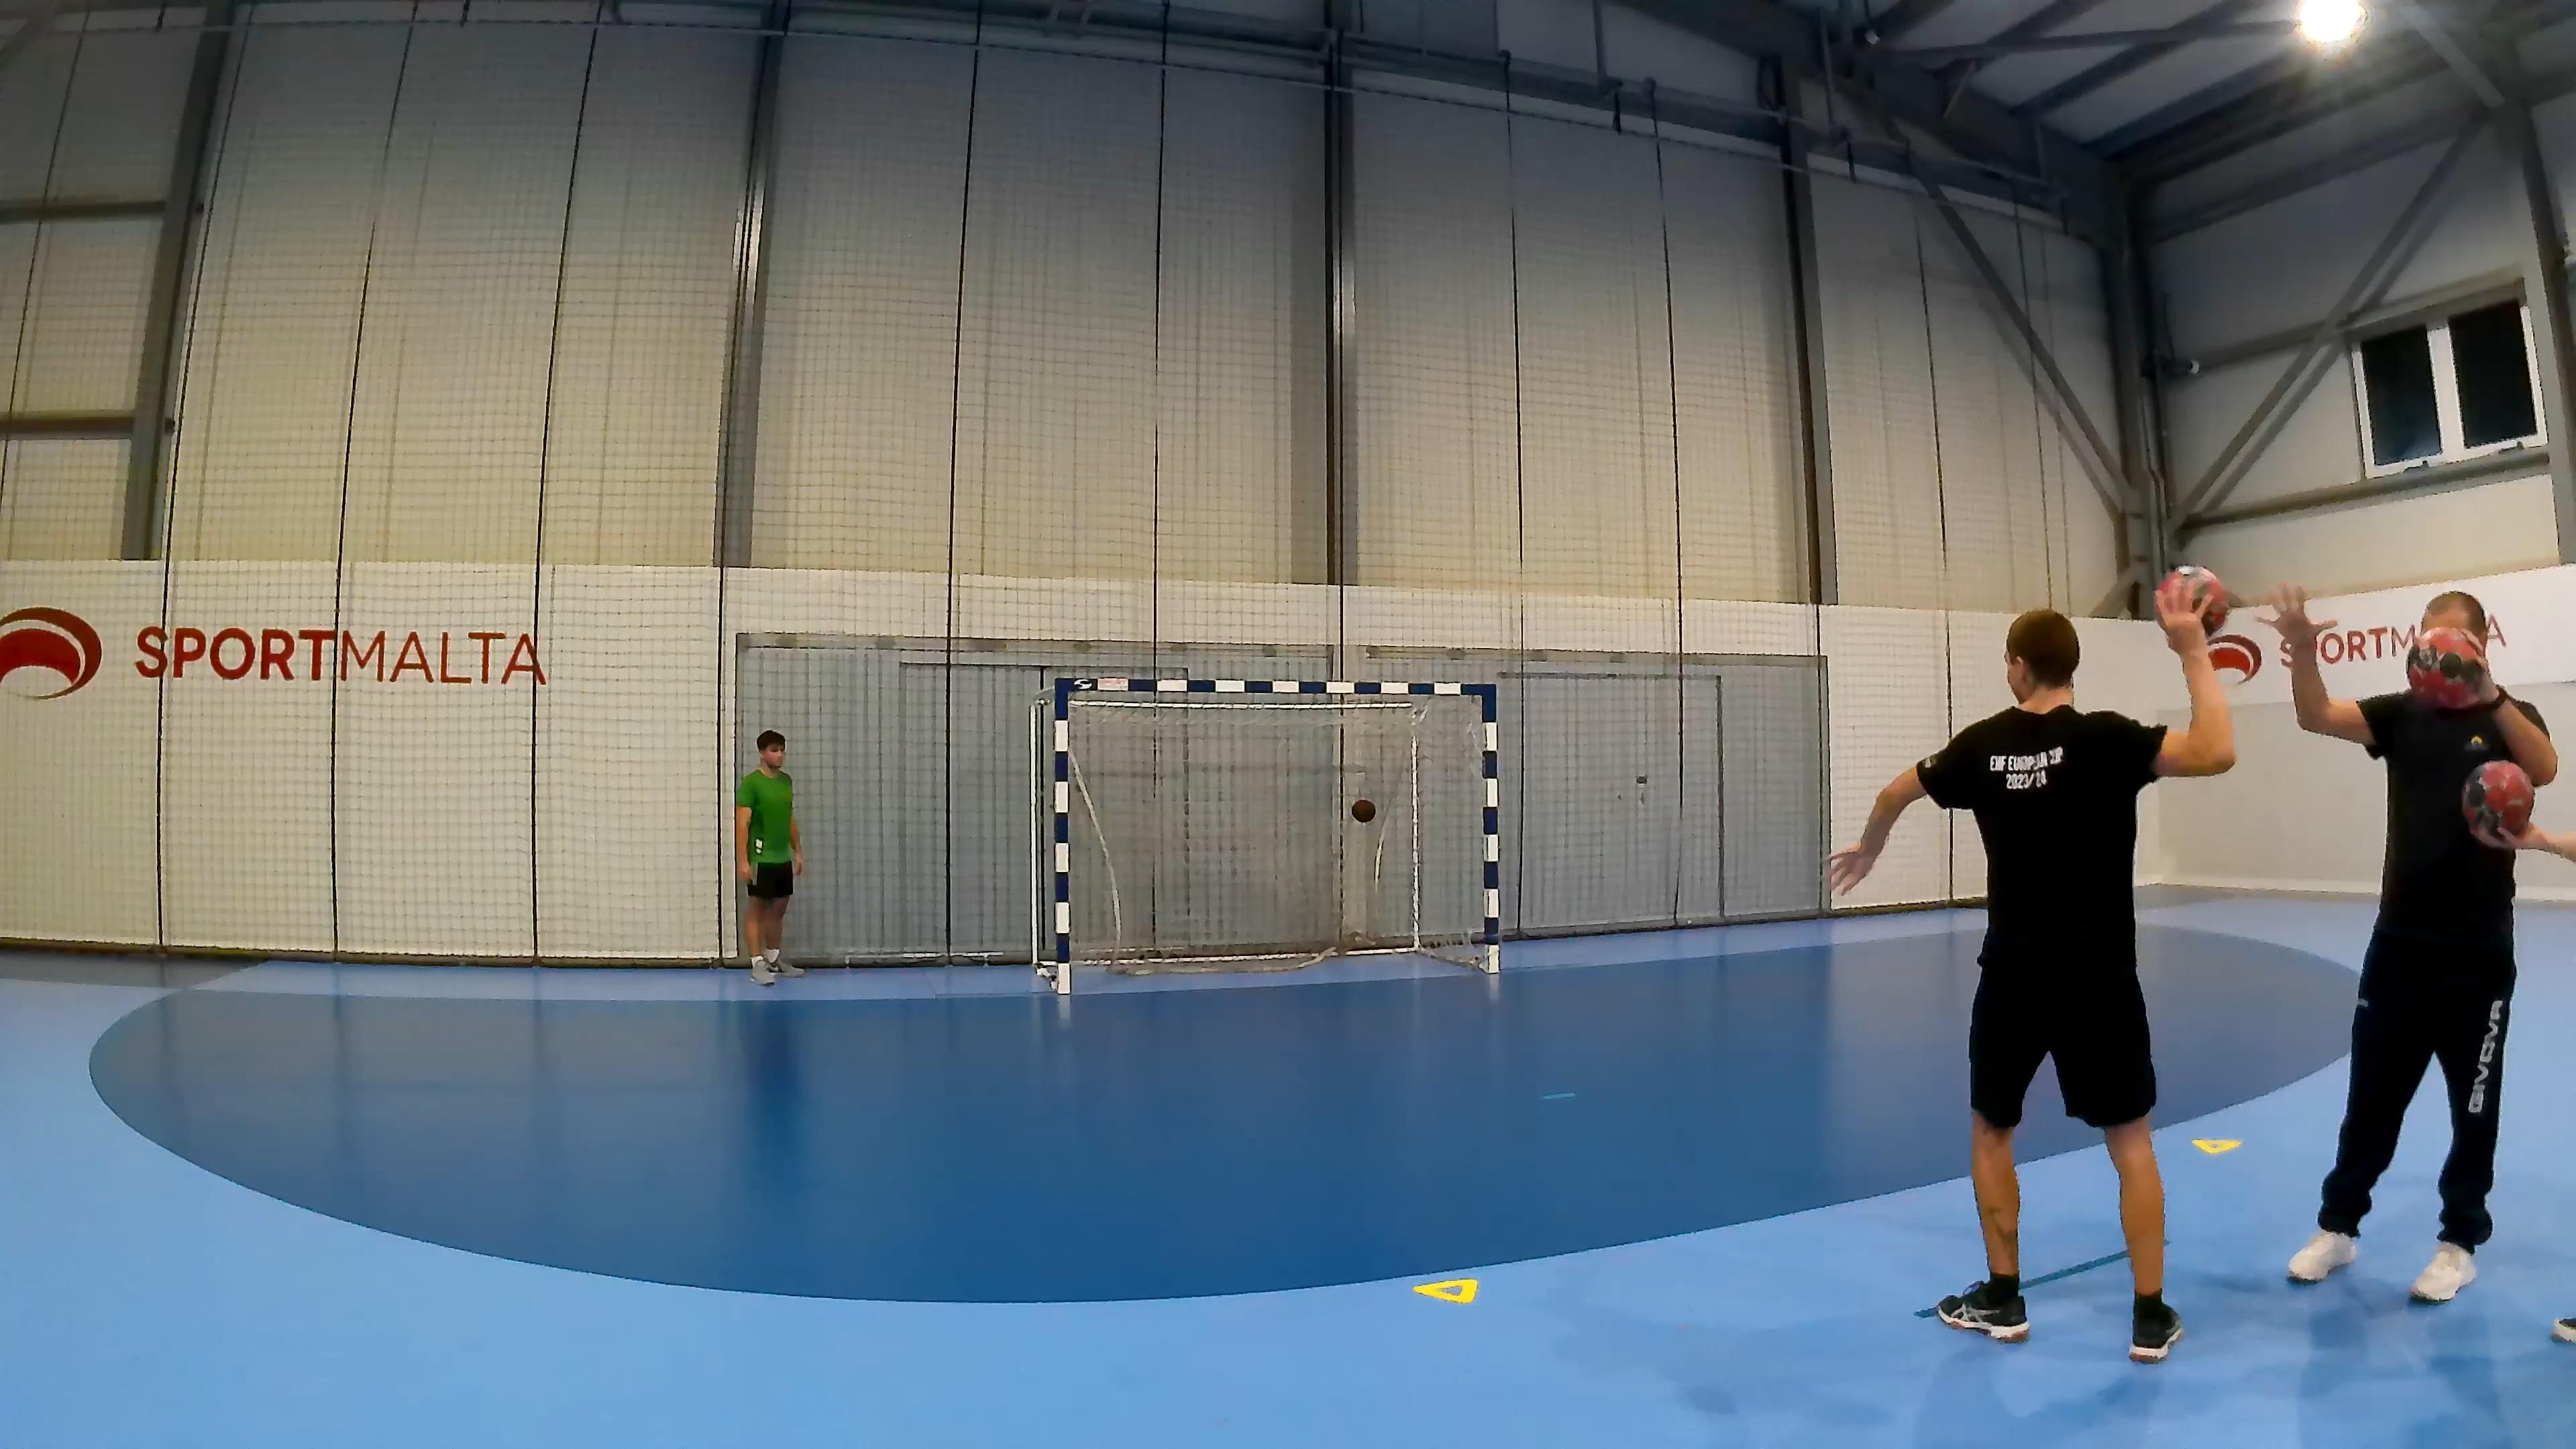handball: (2406, 625, 2489, 709), (2461, 759, 2534, 844), (2171, 563, 2229, 635), (1353, 796, 1378, 830)
